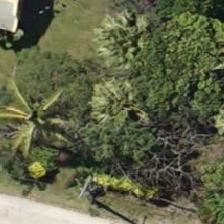coconut_tree: (0, 74, 76, 164)
